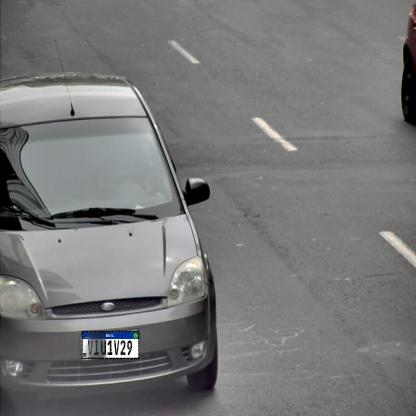PlacaM: (82, 331, 139, 359)
